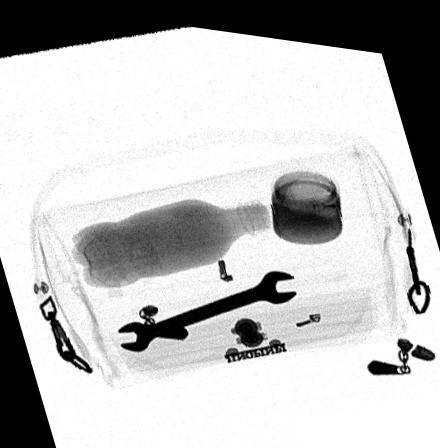Wrench: (114, 263, 297, 348)
